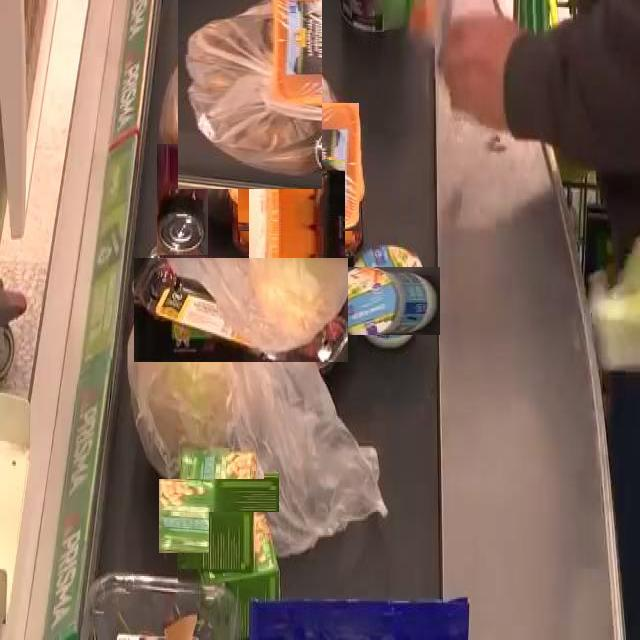food-box: (236, 104, 360, 230), (240, 168, 355, 284), (169, 461, 270, 563), (210, 512, 288, 640), (347, 258, 432, 343), (156, 143, 208, 255)
fruit: (127, 269, 264, 479), (133, 257, 348, 362)
vegetable: (161, 0, 340, 172)
